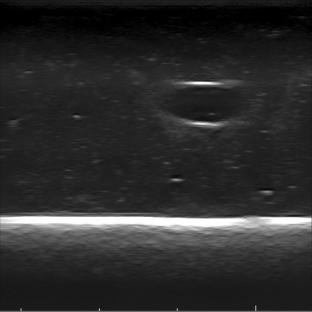vessel: (164, 81, 248, 129)
